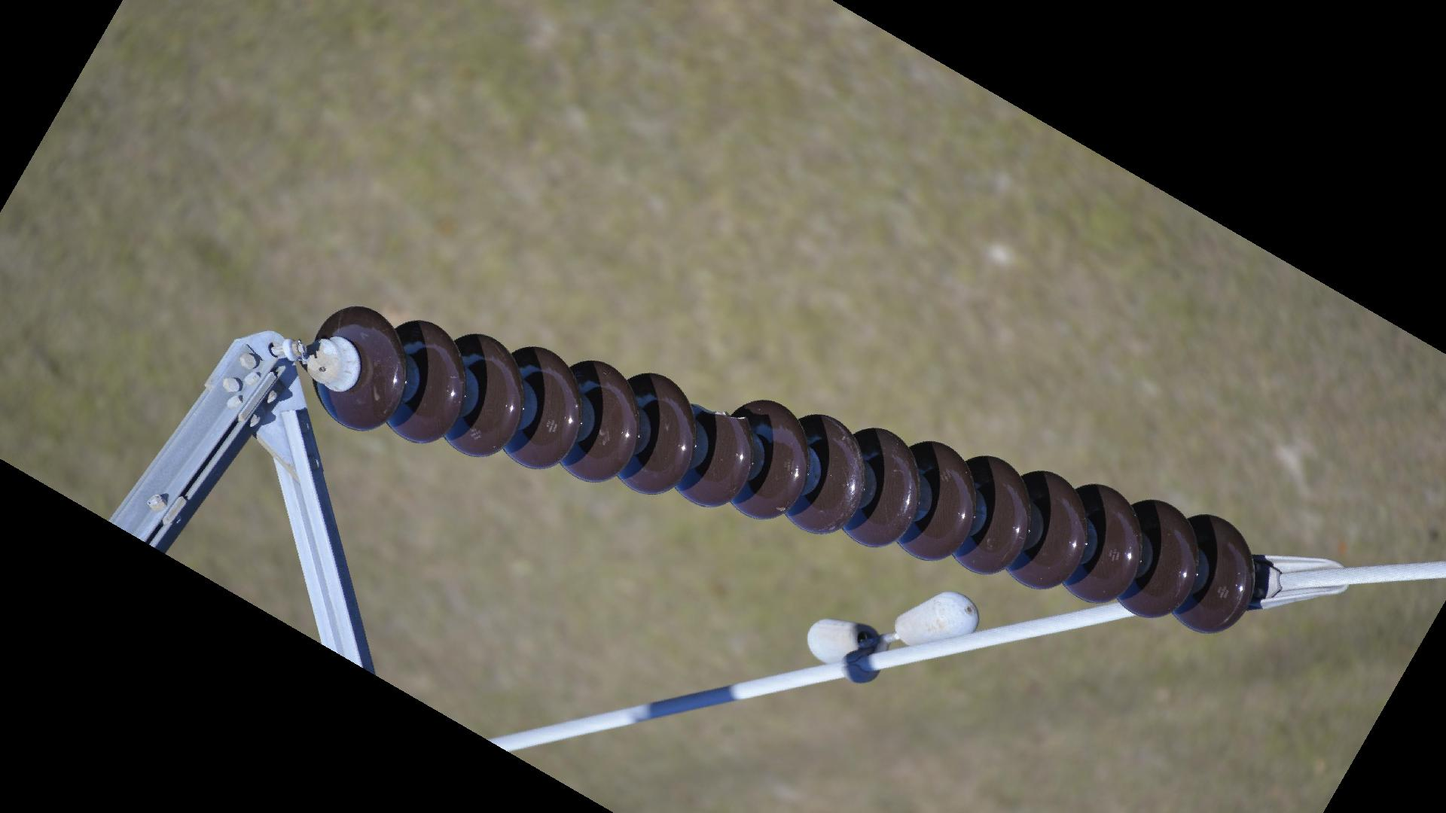insulator: (306, 301, 1261, 640)
insulator_breakage: (685, 396, 752, 428)
